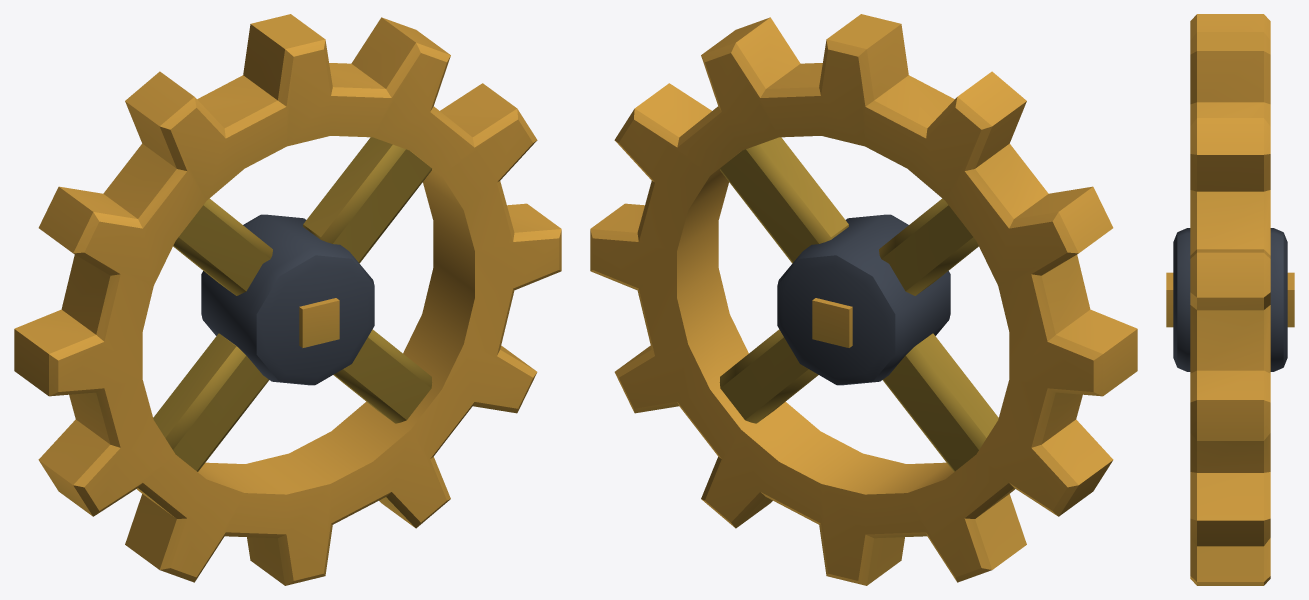
File: cog.glb
The picture shows the model from 3 angles, left to right: view 1: azimuth 30°, elevation 25°; view 2: azimuth 150°, elevation 25°; view 3: azimuth 270°, elevation 25°; orthographic projection. The views are drawn at different scales.
Visible parts, largest first — view 1: Cog Brass, Cog Iron; view 2: Cog Brass, Cog Iron; view 3: Cog Brass, Cog Iron.
Boxes of the visible parts, x1,y1,x2,y2 form: Cog Brass: (14,14,561,585); Cog Iron: (201,214,374,385); Cog Brass: (590,14,1137,585); Cog Iron: (777,214,950,385); Cog Brass: (1166,14,1294,585); Cog Iron: (1173,228,1287,371).
Size of the model in its own units: 0.4985 by 0.4985 by 0.112.
